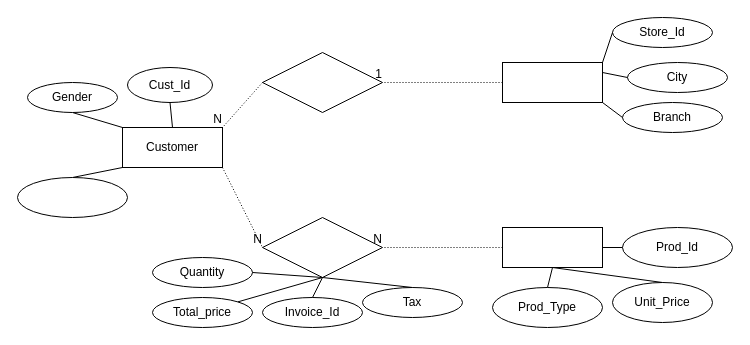
This 750x345 diagram has some shape labels left out. Each missing label, with the box of its shape:
Customet_Type: (16, 176, 128, 218)
Product: (502, 226, 602, 268)
Purchase_From: (262, 52, 382, 112)
Purchases: (262, 216, 382, 278)
Store: (502, 62, 602, 102)
